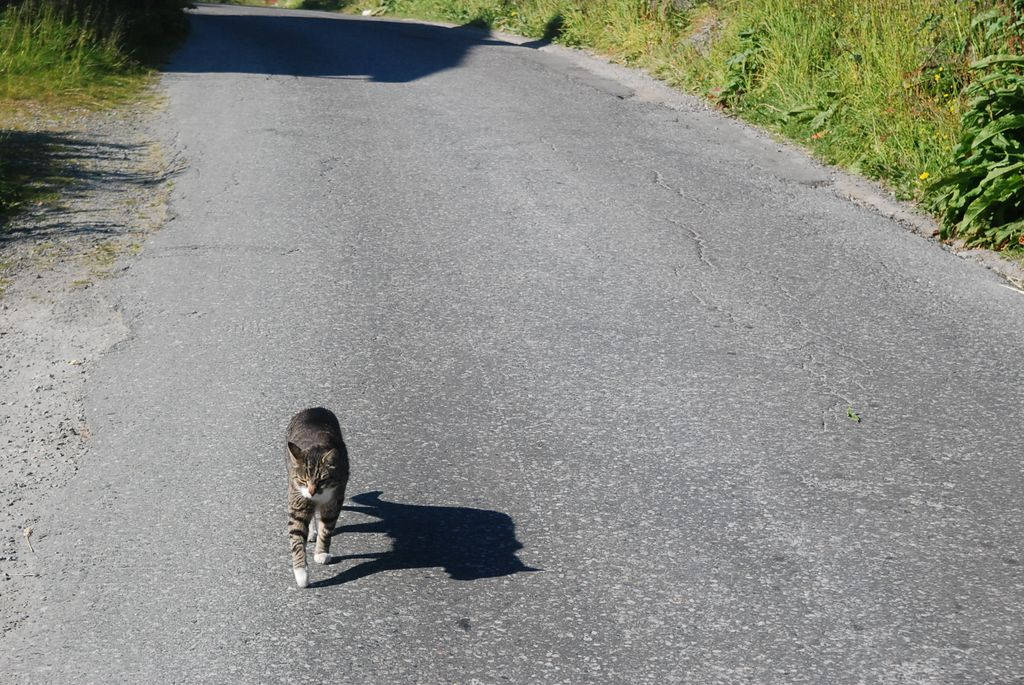cat: (281, 405, 351, 588)
